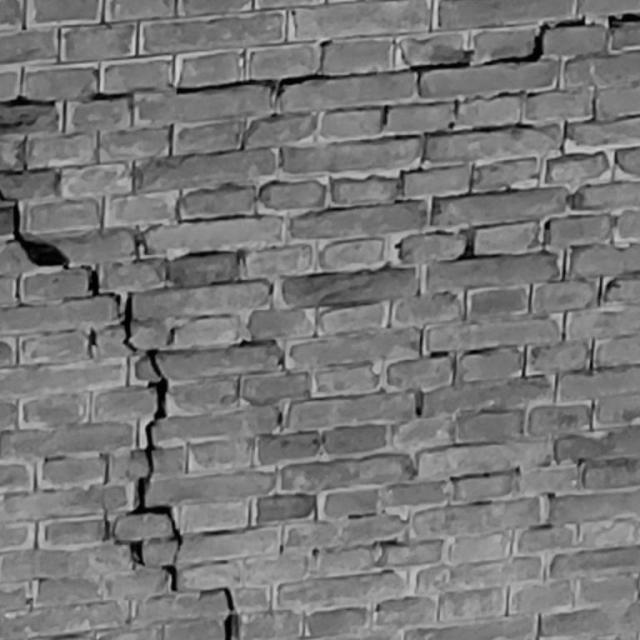crack: (1, 189, 235, 640), (1, 13, 638, 107)
